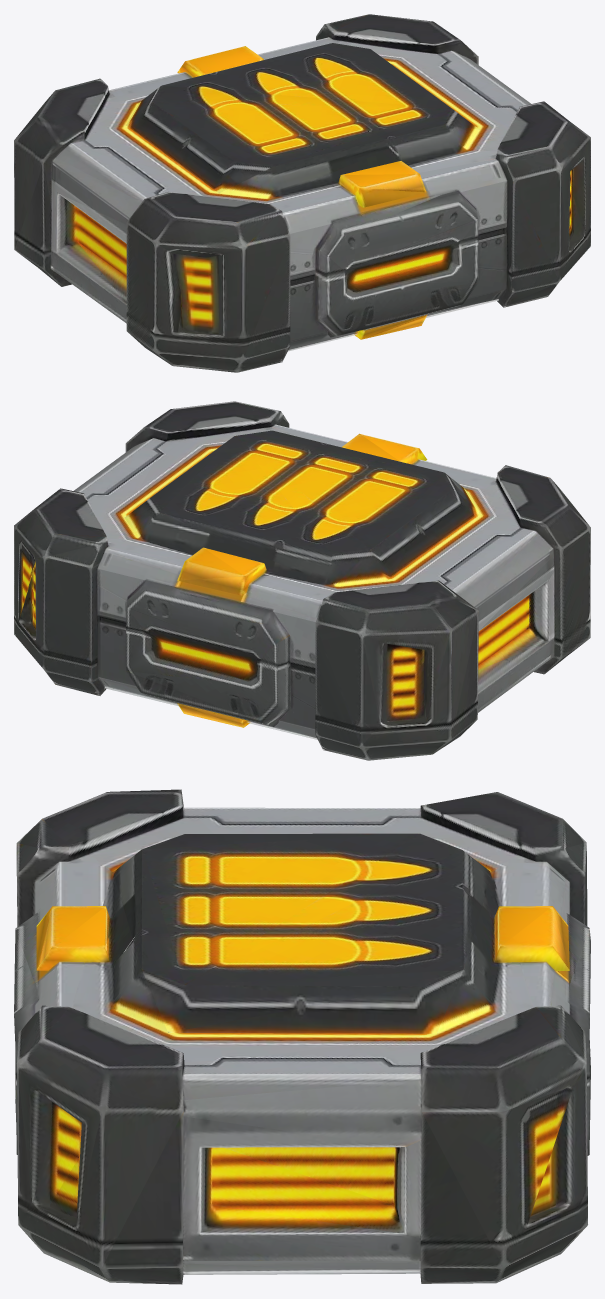
Rendered from cartridges.glb.
3 views of the same model, one above another, from view 1: azimuth 30°, elevation 25°; view 2: azimuth 150°, elevation 25°; view 3: azimuth 270°, elevation 25° (orthographic). The views are drawn at different scales.
Parts seen in each view (by area): view 1: mesh_node; view 2: mesh_node; view 3: mesh_node.
Boxes of the visible parts, x1=… form: mesh_node: x1=14, y1=14, x2=590, y2=372; mesh_node: x1=14, y1=401, x2=590, y2=760; mesh_node: x1=14, y1=789, x2=590, y2=1284.
Bounding box in the file's own units: 1 × 0.3584 × 0.7969.
Materials: 1 (1 with a texture image).
